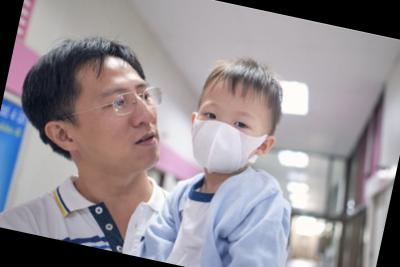with_mask: (184, 95, 274, 184)
without_mask: (72, 68, 176, 182)
